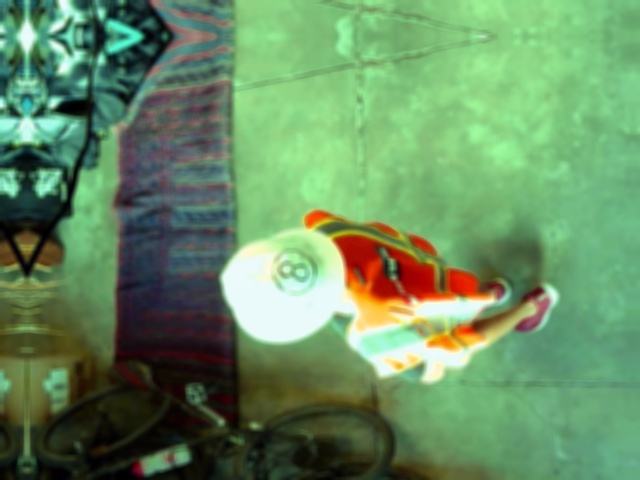eight: (270, 248, 315, 294)
